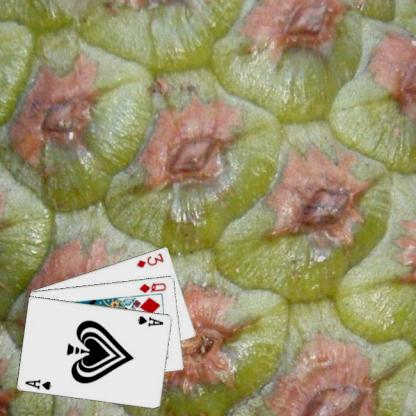3D: (134, 250, 165, 268)
AS: (135, 313, 165, 328), (23, 376, 53, 391)
QD: (136, 280, 168, 294)
